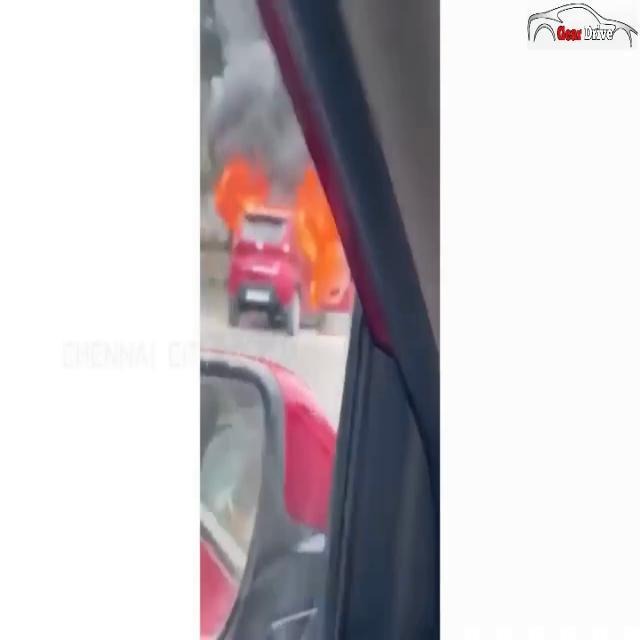Fire: (285, 170, 348, 314), (210, 157, 296, 230)
Smoke: (200, 0, 300, 179)
